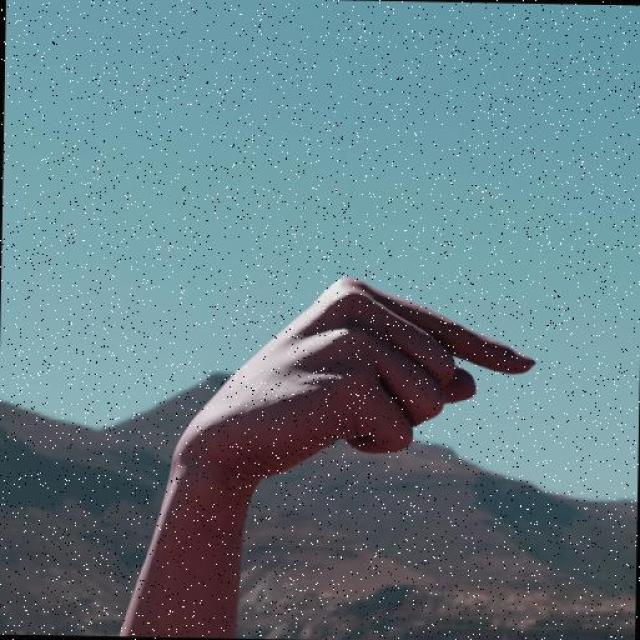G: (168, 270, 540, 490)
